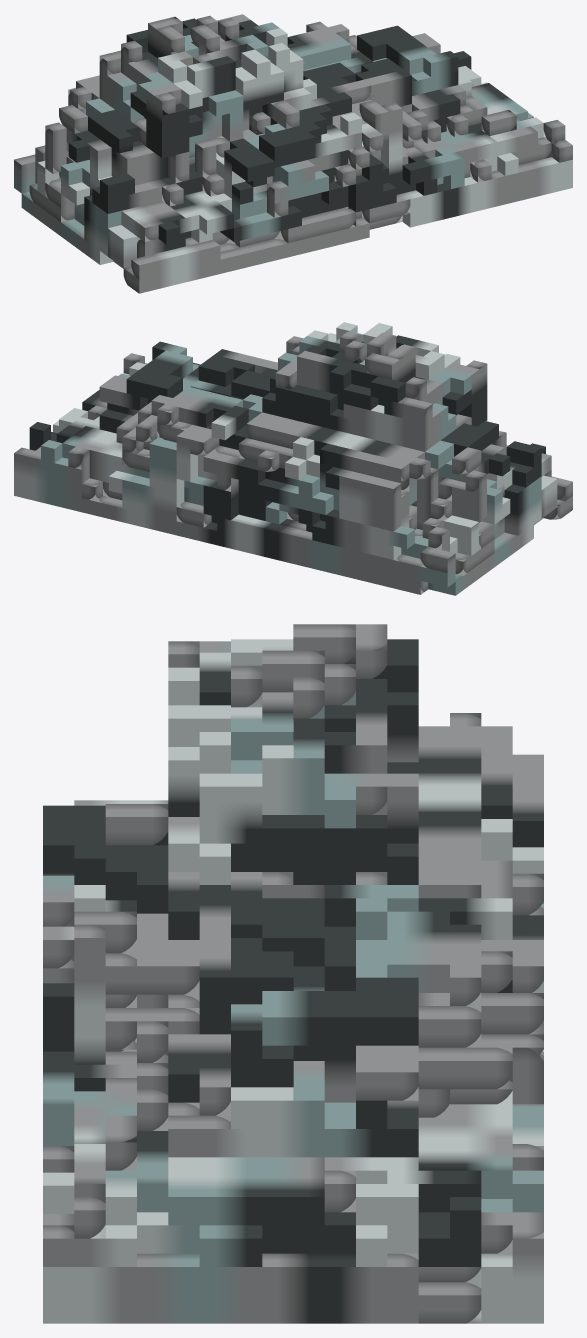
The model's file is SilverOre1.obj.
The picture shows the model from 3 angles, top to bottom: view 1: azimuth 30°, elevation 25°; view 2: azimuth 150°, elevation 25°; view 3: azimuth 270°, elevation 25°; orthographic projection. The views are drawn at different scales.
Parts seen in each view (by area): view 1: Model; view 2: Model; view 3: Model.
Boxes of the visible parts, x1=… form: Model: x1=14, y1=14, x2=572, y2=293; Model: x1=14, y1=322, x2=572, y2=595; Model: x1=43, y1=624, x2=543, y2=1323.
Size of the model in its own units: 8 by 3.25 by 4.
1 material, 1 textured.
